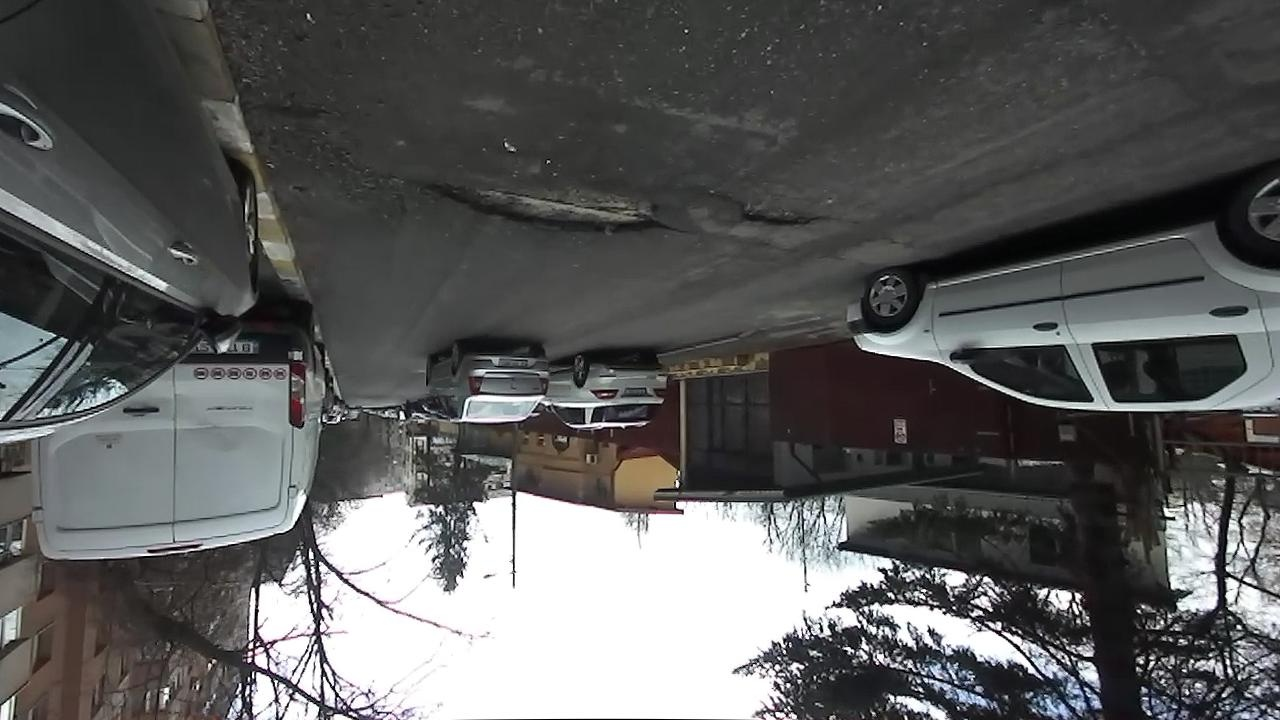pothole: (407, 168, 675, 239), (721, 191, 829, 230)
